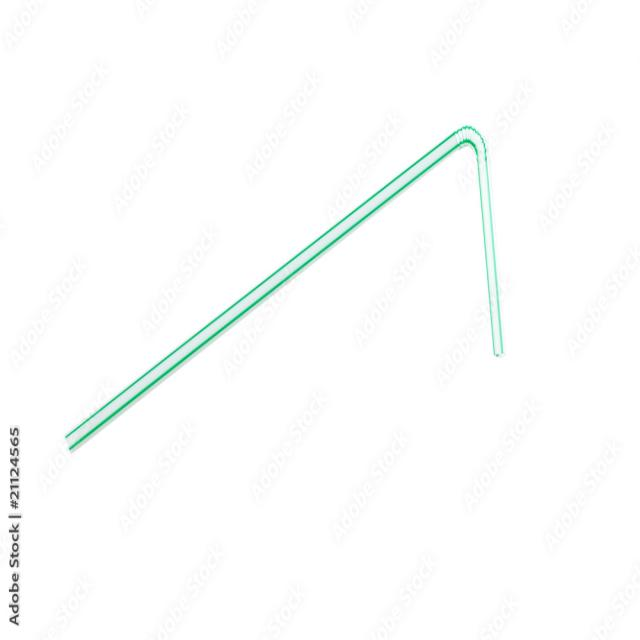plastic: (53, 98, 560, 459)
